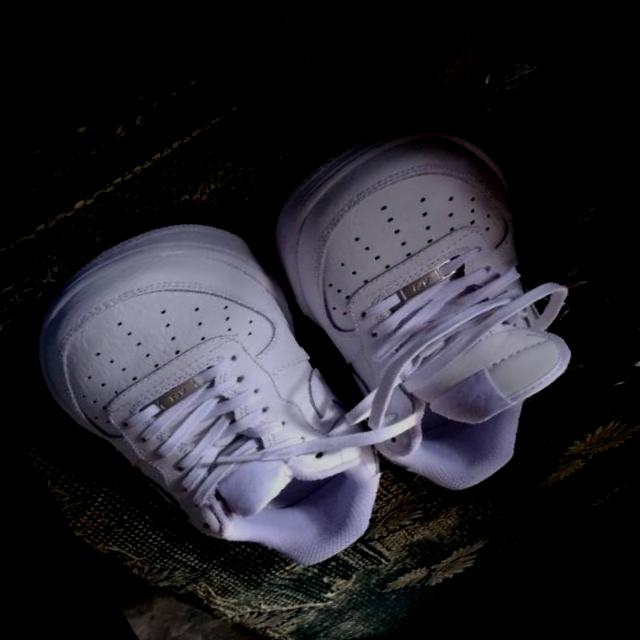nike_fake_airforce: (0, 155, 433, 640), (223, 63, 640, 540), (26, 240, 435, 640)
